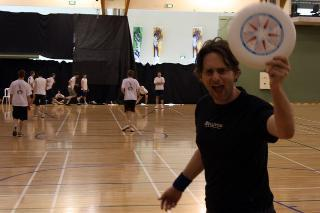person - v3 P: (159, 38, 294, 212), (9, 70, 31, 136), (121, 70, 139, 131), (33, 72, 46, 117), (66, 73, 78, 104), (154, 72, 164, 108), (77, 74, 88, 105), (46, 73, 57, 103), (136, 86, 147, 107), (27, 71, 34, 93), (55, 90, 64, 104), (31, 93, 34, 105)
